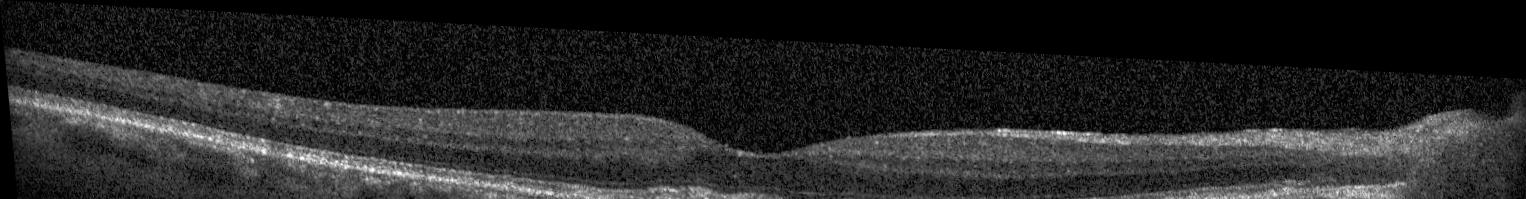retinal_drusen: (684, 189, 711, 199), (649, 190, 668, 199), (734, 194, 749, 199)
